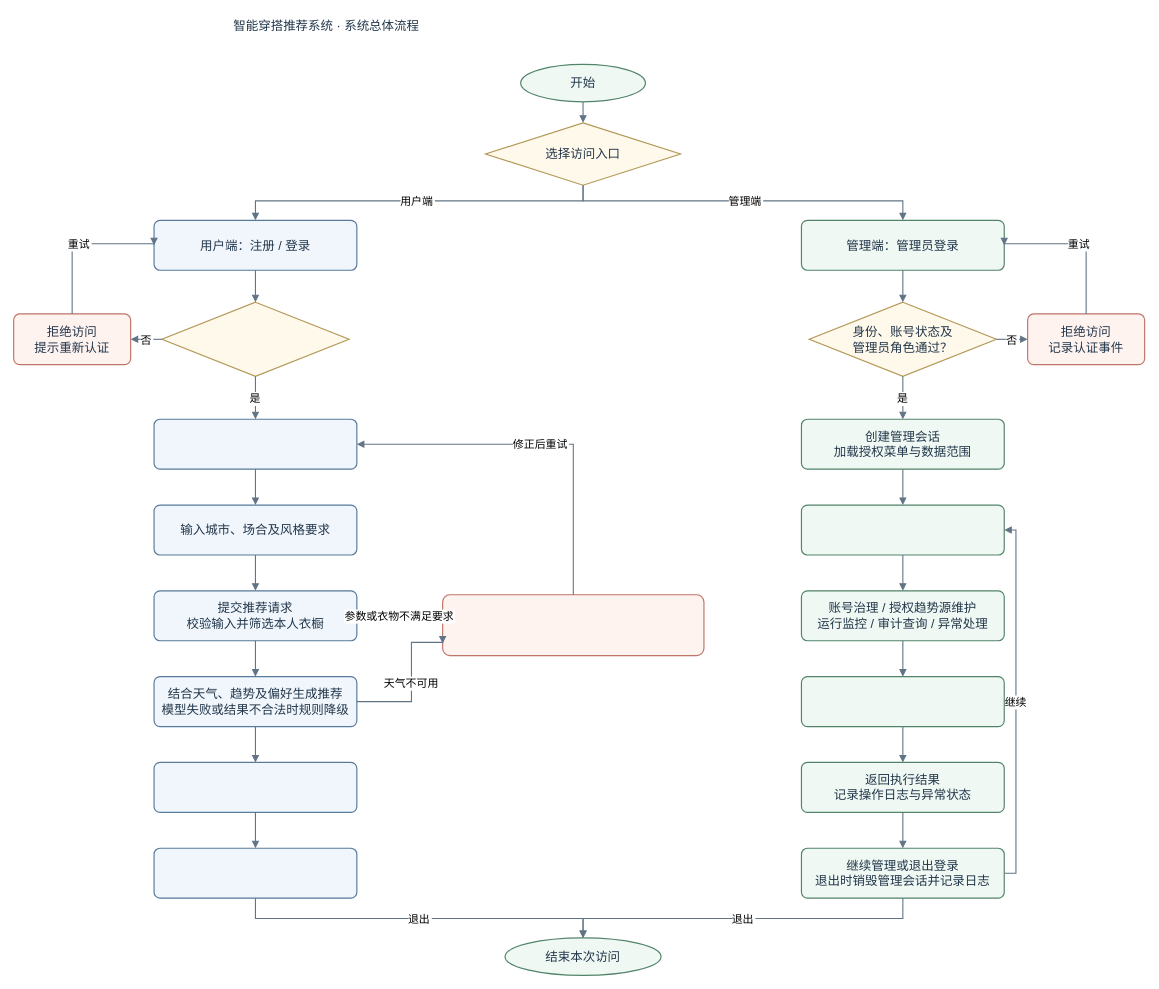
Image size: 1159x989. Some labels were removed from this diagram. The shapes that lost their labels are listed below. From the top down, each one's box as (x1, y1, x2, y2) in pixels, then its label:
(161, 301, 349, 377): 身份与账号状态 校验通过？
(153, 418, 357, 469): 维护个人衣橱与风格偏好
(801, 504, 1004, 555): 选择管理功能 逐次校验操作权限
(442, 594, 704, 656): 返回明确错误 修正输入 / 补充衣物 / 稍后重试
(801, 676, 1004, 727): 只读查询直接返回摘要 写操作校验；高风险操作二次确认
(153, 762, 357, 813): 保存推荐记录与生成审计 展示方案、理由及降级标识
(153, 847, 357, 898): 查看历史 / 收藏方案 / 提交反馈
